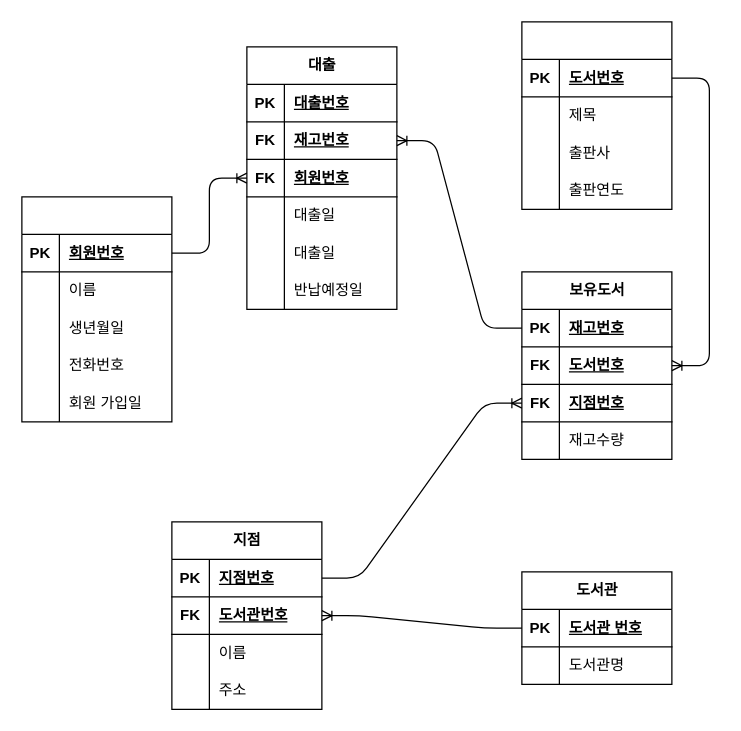
Some shapes in this 741 by 731 pixel diagram are drawn without their labels. Each missing label, with the box of its shape:
도서: (521, 21, 672, 209)
회원: (21, 196, 172, 422)
